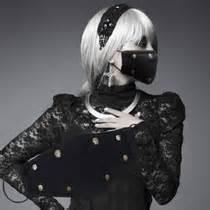OK: (112, 25, 159, 83)
